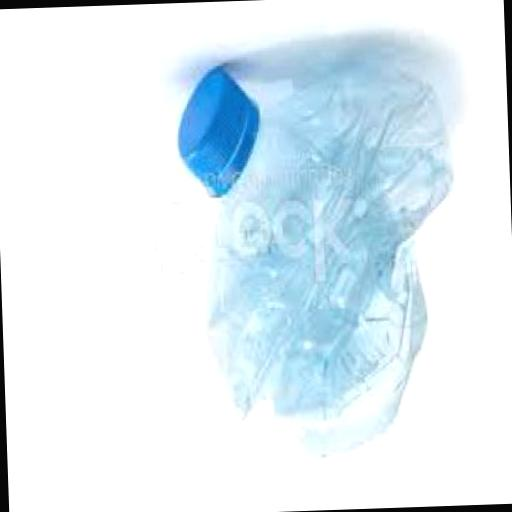plastic: (172, 55, 459, 464), (172, 64, 260, 205)
